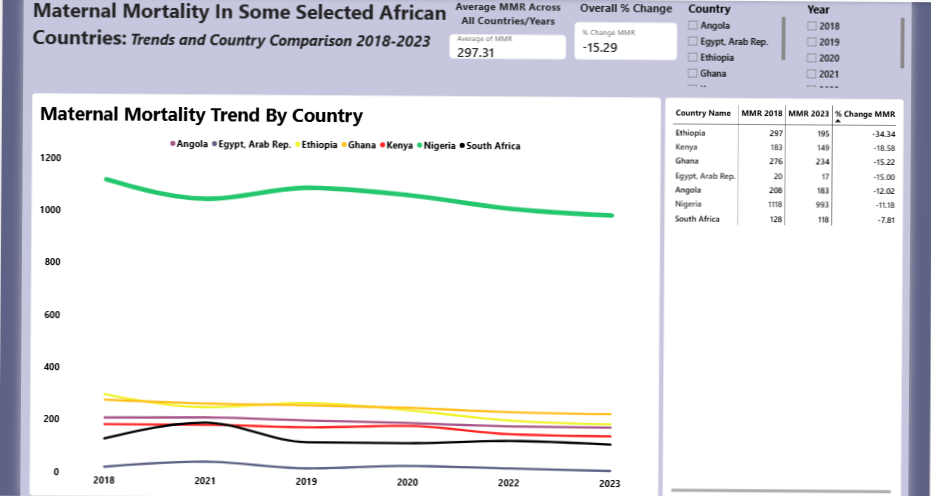

Layout of this report page (visuals, bound fields, positions):
{"tool":"powerbi","page":{"name":"Page 5","canvas":[1920,1080],"ordinal":4},"visuals":[{"type":"lineChart","title":"Maternal Mortality Trend By Country","fields":{"Category":["Table1.Year"],"Series":["Table1.Country Name"],"Y":["Sum(Table1.MMR)"]},"box":[19.4,209.5,1358.6,870.5],"z":0},{"type":"tableEx","fields":{"Values":["Table1.Country Name","Table1.MMR 2018","Table1.MMR 2023","Table1.% Change MMR"]},"box":[1386.7,209.5,516.2,870.5],"z":1},{"type":"slicer","fields":{"Values":["Table1.Country Name"]},"box":[1427.8,0,218.2,185.8],"z":2},{"type":"slicer","fields":{"Values":["Table1.Year"]},"box":[1684.8,0,218.2,185.8],"z":3},{"type":"cardVisual","title":"Average MMR Across All Countries/Years","fields":{"Data":["Avg(Table1.MMR)"]},"box":[920.2,0,252.7,129.6],"z":4},{"type":"cardVisual","title":"Overall % Change","fields":{"Data":["Table1.% Change MMR"]},"box":[1190.2,0,222.5,129.6],"z":5},{"type":"textbox","box":[19.4,0,900.7,129.6],"z":6}]}

Visuals, with their boxes on the page's 1920x1080 design canvas (x1, y1, x2, y2). These are canvas units, not pixel positions in the 931x496 screenshot, which may show the page scaled, cropped or inside an application window:
"Maternal Mortality Trend By Country" lineChart: (x1=19, y1=210, x2=1378, y2=1080)
tableEx - Table1.Country Name x Table1.MMR 2018: (x1=1387, y1=210, x2=1903, y2=1080)
slicer - Table1.Country Name: (x1=1428, y1=0, x2=1646, y2=186)
slicer - Table1.Year: (x1=1685, y1=0, x2=1903, y2=186)
"Average MMR Across All Countries/Years" cardVisual: (x1=920, y1=0, x2=1173, y2=130)
"Overall % Change" cardVisual: (x1=1190, y1=0, x2=1413, y2=130)
textbox: (x1=19, y1=0, x2=920, y2=130)
